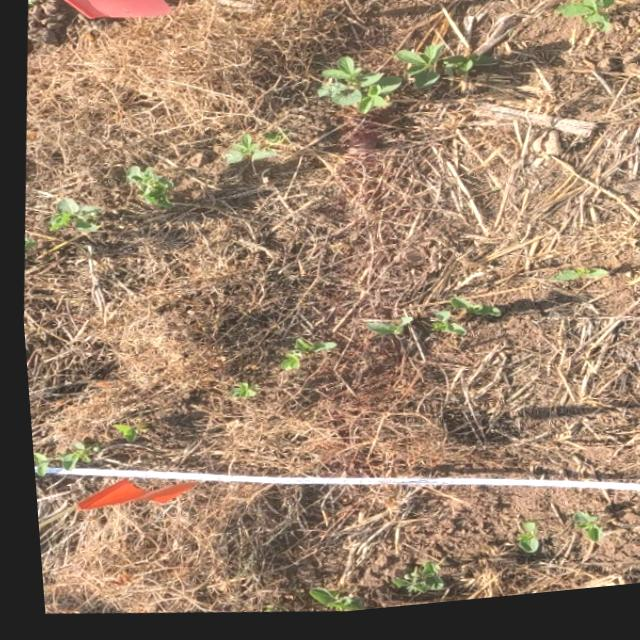soy_plant: (315, 63, 401, 120), (394, 52, 494, 96), (554, 0, 615, 43), (26, 443, 91, 475), (122, 168, 169, 209), (273, 343, 330, 374), (45, 198, 95, 231), (381, 569, 433, 600), (221, 138, 273, 167), (299, 593, 353, 617), (441, 305, 493, 325), (359, 323, 407, 342), (423, 317, 459, 342), (546, 279, 602, 291), (104, 425, 131, 445), (222, 386, 249, 401)
